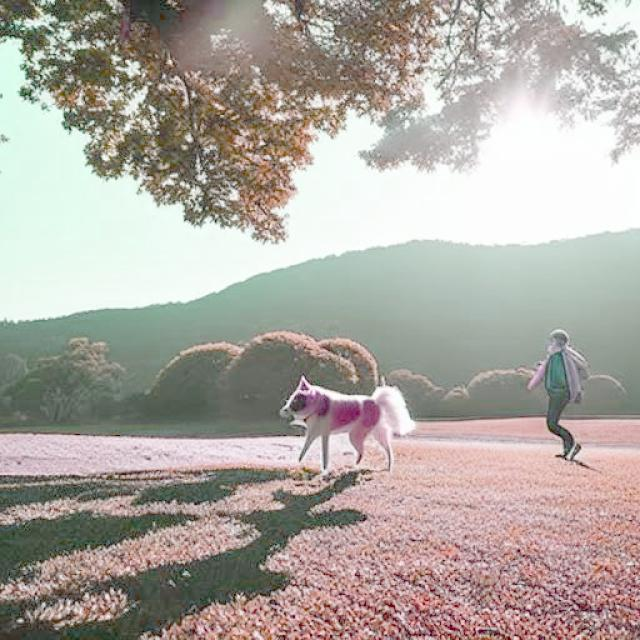Unleashed_Dog: (281, 375, 581, 470)
